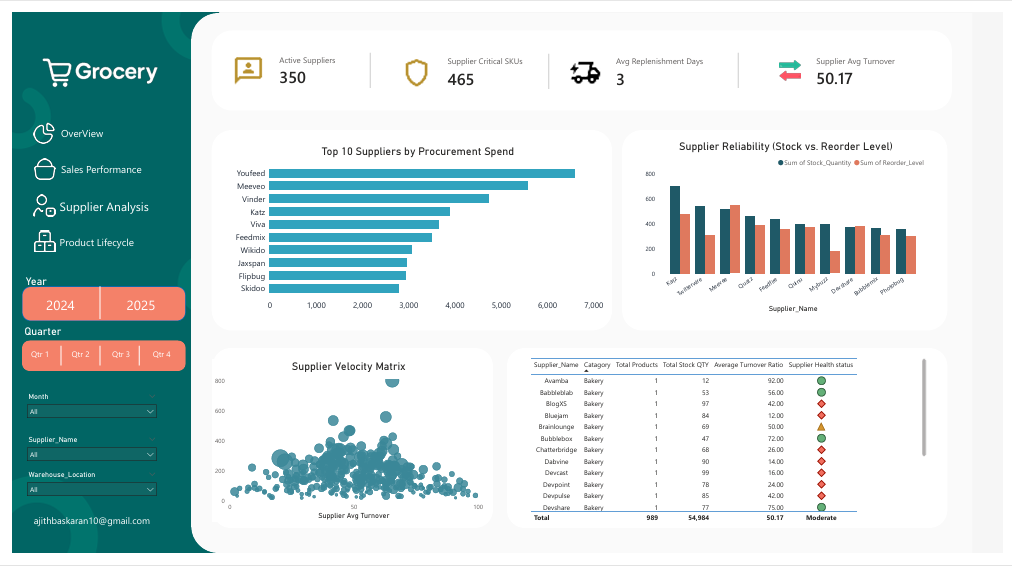

Layout of this report page (visuals, bound fields, positions):
{"tool":"powerbi","page":{"name":"Supplier Analysis","canvas":[1980,1080],"ordinal":2},"visuals":[{"type":"shape","box":[357.8,0,1561.4,1080],"z":0},{"type":"cardVisual","fields":{"Data":["Key Measures.Total Suppliers"]},"box":[505.3,45.5,210.4,138.8],"z":0,"group":"g1"},{"type":"cardVisual","fields":{"Data":["Key Measures.Supplier Avg Turnover"]},"box":[1577.6,51.6,242.9,132.3],"z":0,"group":"g4"},{"type":"cardVisual","fields":{"Data":["Key Measures.Supplier Critical SKUs"]},"box":[841.5,54.2,210.4,130.1],"z":0,"group":"g3"},{"type":"cardVisual","fields":{"Data":["Key Measures.Avg Replenishment Days"]},"box":[1177.6,54.2,273.3,130.1],"z":0,"group":"g2"},{"type":"shape","box":[399,34.7,1479,160.5],"z":1000},{"type":"image","box":[440.2,82.4,65.1,65.1],"z":1000,"group":"g1"},{"type":"image","box":[776.4,86.7,65.1,65.1],"z":1000,"group":"g3"},{"type":"image","box":[1112.5,86.7,65.1,65.1],"z":1000,"group":"g2"},{"type":"image","box":[1533.3,93.3,43.4,43.4],"z":2000},{"type":"group","id":"g1","title":"Group 1","box":[440.2,45.5,275.4,138.8],"z":3000},{"type":"group","id":"g2","title":"Group 3","box":[1112.5,54.2,338.3,130.1],"z":4000},{"type":"group","id":"g3","title":"Group 2","box":[776.4,54.2,275.4,130.1],"z":5000},{"type":"group","id":"g4","title":"Group 4","box":[1577.6,51.6,242.9,132.3],"z":6000},{"type":"shape","box":[676.6,80.2,78.1,69.4],"z":7000},{"type":"shape","box":[1411.8,80.2,78.1,69.4],"z":8000},{"type":"shape","box":[1032.3,82.4,80.2,69.4],"z":9000},{"type":"shape","box":[399,234.2,800.2,401.2],"z":10000},{"type":"shape","box":[1218.8,234.2,650.6,401.2],"z":11000},{"type":"shape","box":[401.2,670.1,559.5,360],"z":12000},{"type":"shape","box":[988.9,670.1,880.5,360],"z":13000},{"type":"image","box":[26,19.5,299.3,199.5],"z":14000},{"type":"image","box":[30.4,219,67.2,43.4],"z":15000},{"type":"image","box":[43.4,290.6,43.4,43.4],"z":16000},{"type":"image","box":[43.4,362.2,43.4,45.5],"z":17000},{"type":"image","box":[43.4,435.9,43.4,43.4],"z":18000},{"type":"shape","box":[19.5,654.9,327.5,60.7],"z":19000},{"type":"advancedSlicerVisual","fields":{"Values":["Grocery_Inventory.Date_Received.Variation.Date Hierarchy.Quarter"]},"box":[19.5,624.6,327.5,91.1],"z":20000},{"type":"shape","box":[58.6,665.8,78.1,39],"z":21000},{"type":"shape","box":[136.6,665.8,78.1,39],"z":22000},{"type":"shape","box":[214.7,665.8,78.1,39],"z":23000},{"type":"slicer","fields":{"Values":["Grocery_Inventory.Date_Received.Variation.Date Hierarchy.Month"]},"box":[19.5,754.7,279.8,69.4],"z":24000},{"type":"slicer","fields":{"Values":["Grocery_Inventory.Supplier_Name"]},"box":[19.5,841.4,279.8,69.4],"z":25000},{"type":"textbox","box":[8.7,997.6,301.4,43.4],"z":26000},{"type":"clusteredBarChart","title":"Top 10 Suppliers by Procurement  Spend","fields":{"Category":["Grocery_Inventory.Supplier_Name"],"Y":["Key Measures.Total Sales Value"]},"box":[435.9,264.6,750,340.5],"z":27000},{"type":"clusteredColumnChart","title":"Supplier Reliability (Stock vs. Reorder Level)","fields":{"Category":["Grocery_Inventory.Supplier_Name"],"Y":["Sum(Grocery_Inventory.Stock_Quantity)","Sum(Grocery_Inventory.Reorder_Level)"]},"box":[1260.2,254.6,571.7,350.8],"z":28000},{"type":"scatterChart","title":"Supplier Velocity Matrix","fields":{"Category":["Grocery_Inventory.Supplier_Name"],"X":["Key Measures.Supplier Avg Turnover"],"Y":["Sum(Grocery_Inventory.Sales_Volume)"],"Size":["Key Measures.Total Sales Value"]},"box":[400.2,693.8,545.7,324.8],"z":29000},{"type":"tableEx","fields":{"Values":["Grocery_Inventory.Supplier_Name","Grocery_Inventory.Catagory","Key Measures.Total Products","Key Measures.Total Stock QTY","Key Measures.Average Turnover Ratio","Key Measures.Supplier Health status"]},"box":[1031.6,686,800,340],"z":30000},{"type":"slicer","fields":{"Values":["Grocery_Inventory.Warehouse_Location"]},"box":[19.5,910.8,279.8,69.4],"z":31000},{"type":"shape","box":[97.6,208.2,214.7,65.1],"z":32000},{"type":"shape","box":[97.6,279.8,214.7,65.1],"z":33000},{"type":"shape","box":[95.4,353.5,214.7,65.1],"z":34000},{"type":"shape","box":[95.4,425.1,214.7,65.1],"z":35000},{"type":"shape","box":[19.5,546.5,327.5,69.4],"z":36000},{"type":"advancedSlicerVisual","fields":{"Values":["Grocery_Inventory.Date_Received.Variation.Date Hierarchy.Year"]},"box":[21.7,524.8,325.3,91.1],"z":37000,"group":"g5"},{"type":"shape","box":[136.6,546.5,78.1,65.1],"z":38000,"group":"g5"},{"type":"group","id":"g5","title":"Group 5","box":[21.7,524.8,325.3,91.1],"z":38001}]}

Visuals, with their boxes in screenshot pixels (x1, y1, x2, y2), scaled from the page's 1980x1080 canvas onto the 1012x566 screenshot:
shape: <box>183,0,981,565</box>
cardVisual - Key Measures.Total Suppliers: <box>258,24,366,97</box>
cardVisual - Key Measures.Supplier Avg Turnover: <box>806,27,930,96</box>
cardVisual - Key Measures.Supplier Critical SKUs: <box>430,28,538,97</box>
cardVisual - Key Measures.Avg Replenishment Days: <box>602,28,742,97</box>
shape: <box>204,18,960,102</box>
image: <box>225,43,258,77</box>
image: <box>397,45,430,80</box>
image: <box>569,45,602,80</box>
image: <box>784,49,806,72</box>
"Group 1" group: <box>225,24,366,97</box>
"Group 3" group: <box>569,28,742,97</box>
"Group 2" group: <box>397,28,538,97</box>
"Group 4" group: <box>806,27,930,96</box>
shape: <box>346,42,386,78</box>
shape: <box>722,42,762,78</box>
shape: <box>528,43,569,80</box>
shape: <box>204,123,613,333</box>
shape: <box>623,123,955,333</box>
shape: <box>205,351,491,540</box>
shape: <box>505,351,955,540</box>
image: <box>13,10,166,115</box>
image: <box>16,115,50,138</box>
image: <box>22,152,44,175</box>
image: <box>22,190,44,214</box>
image: <box>22,228,44,251</box>
shape: <box>10,343,177,375</box>
advancedSlicerVisual - Grocery_Inventory.Date_Received.Variation.Date Hierarchy.Quarter: <box>10,327,177,375</box>
shape: <box>30,349,70,369</box>
shape: <box>70,349,110,369</box>
shape: <box>110,349,150,369</box>
slicer - Grocery_Inventory.Date_Received.Variation.Date Hierarchy.Month: <box>10,396,153,432</box>
slicer - Grocery_Inventory.Supplier_Name: <box>10,441,153,477</box>
textbox: <box>4,523,158,546</box>
"Top 10 Suppliers by Procurement  Spend" clusteredBarChart: <box>223,139,606,317</box>
"Supplier Reliability (Stock vs. Reorder Level)" clusteredColumnChart: <box>644,133,936,317</box>
"Supplier Velocity Matrix" scatterChart: <box>205,364,483,534</box>
tableEx - Grocery_Inventory.Supplier_Name x Grocery_Inventory.Catagory: <box>527,360,936,538</box>
slicer - Grocery_Inventory.Warehouse_Location: <box>10,477,153,514</box>
shape: <box>50,109,160,143</box>
shape: <box>50,147,160,181</box>
shape: <box>49,185,158,219</box>
shape: <box>49,223,158,257</box>
shape: <box>10,286,177,323</box>
advancedSlicerVisual - Grocery_Inventory.Date_Received.Variation.Date Hierarchy.Year: <box>11,275,177,323</box>
shape: <box>70,286,110,321</box>
"Group 5" group: <box>11,275,177,323</box>
